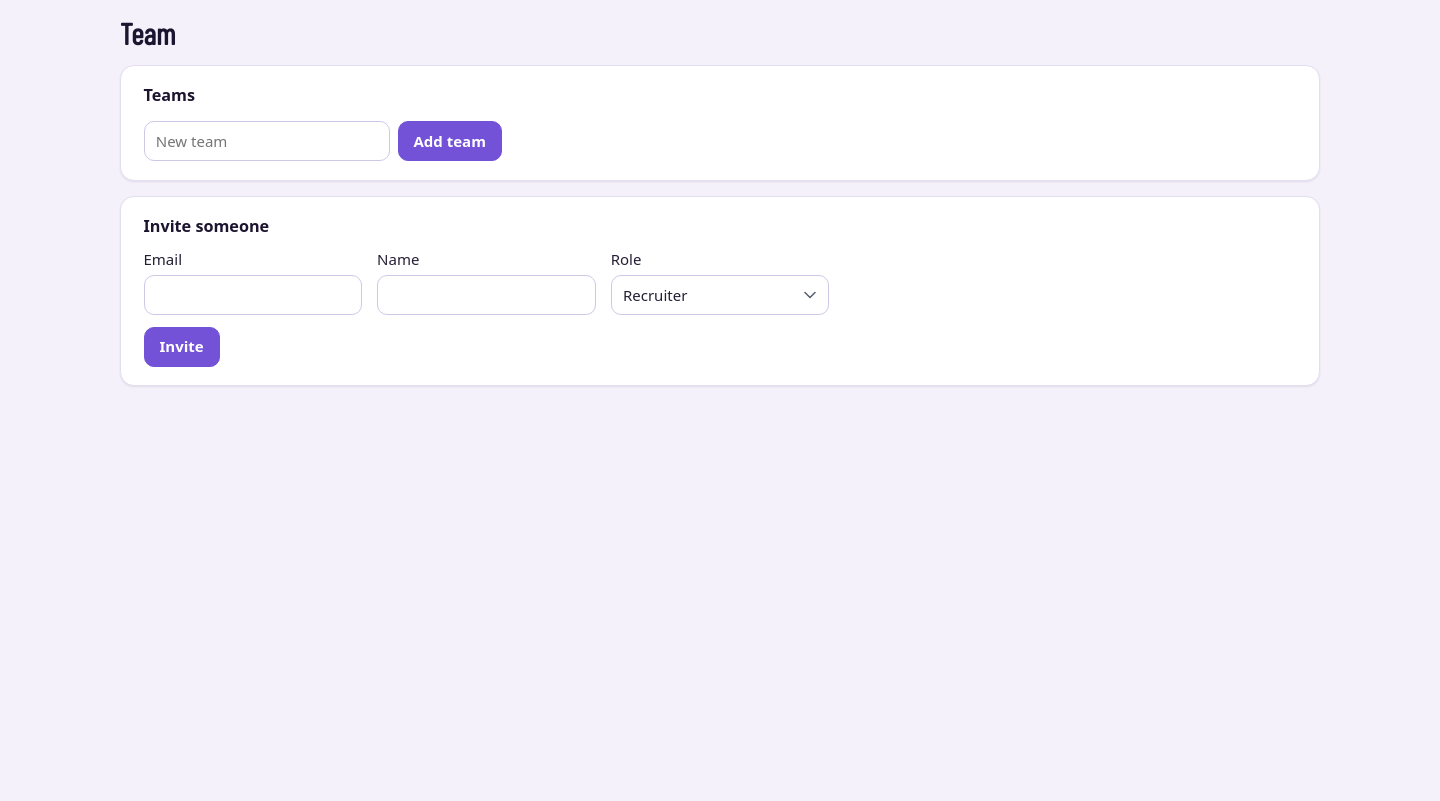
team › says plainly when an invitation could not be emailed, and how to fix it
This screenshot has width=1440, height=801.
In the field labelled "Email": (253, 295) x1=144 y1=275 x2=362 y2=315, type "wei@contoh.my"
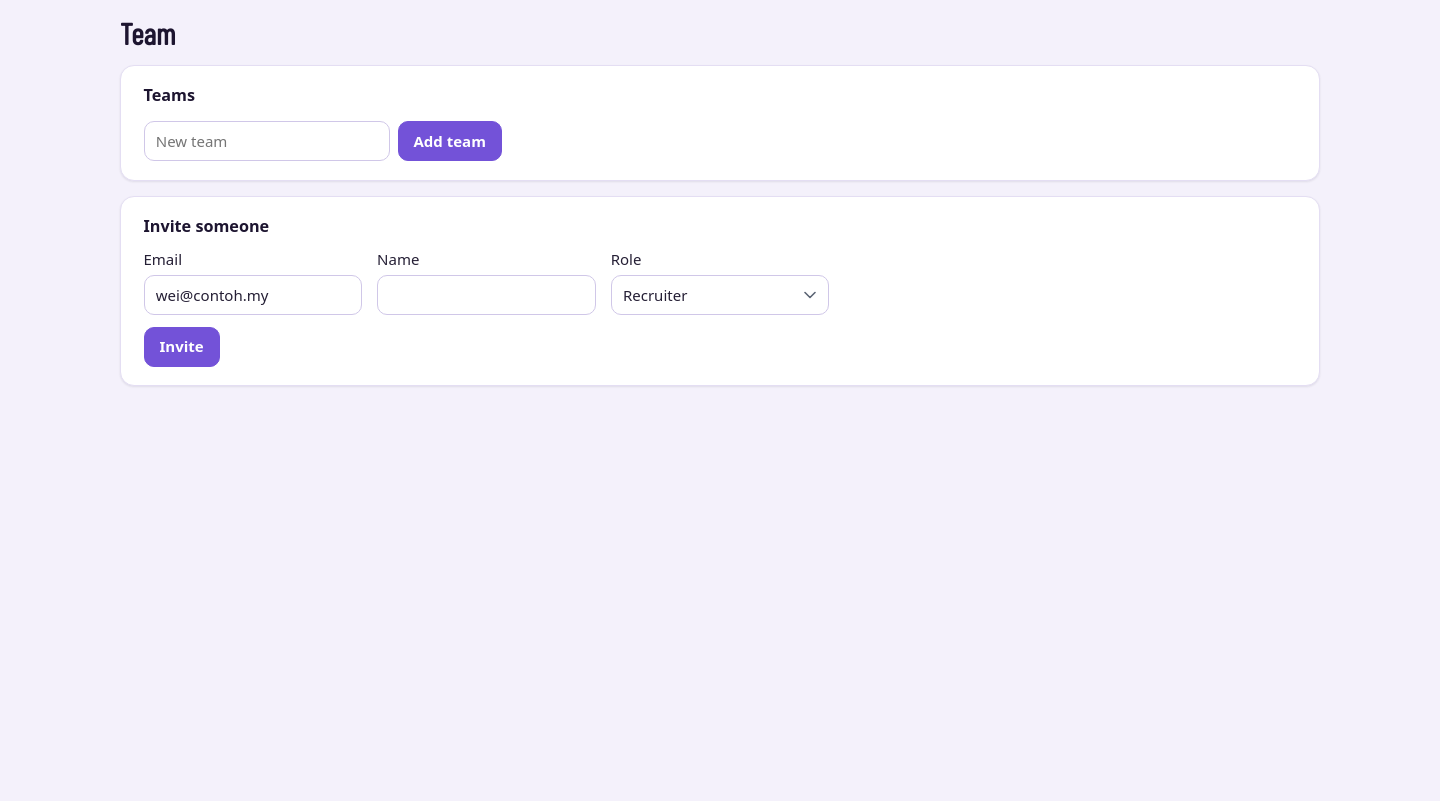
In the field labelled "Name": (486, 295) x1=377 y1=275 x2=596 y2=315, type "Wei"
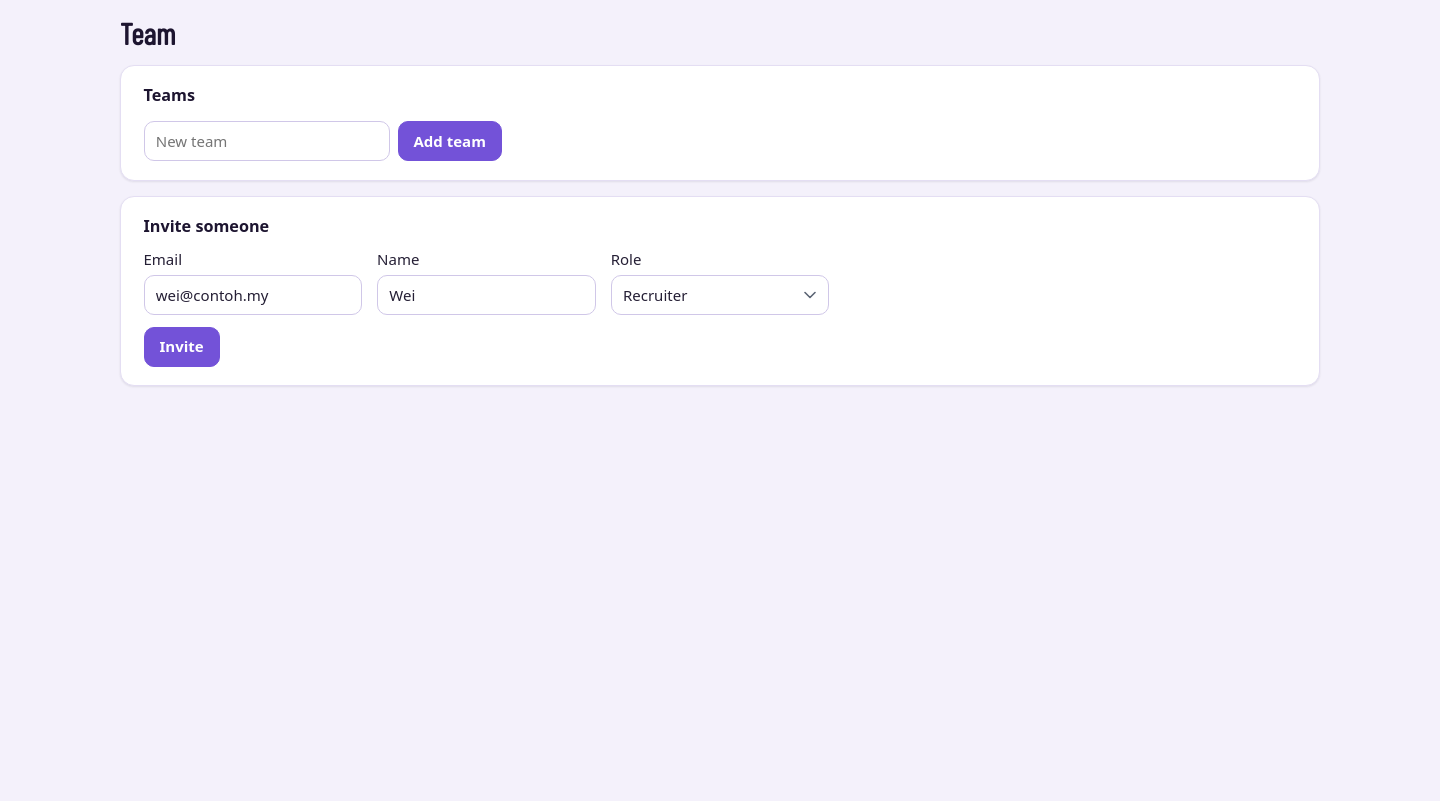
Click the button "Invite": click(182, 347) x1=144 y1=327 x2=220 y2=367
(page scrolled)
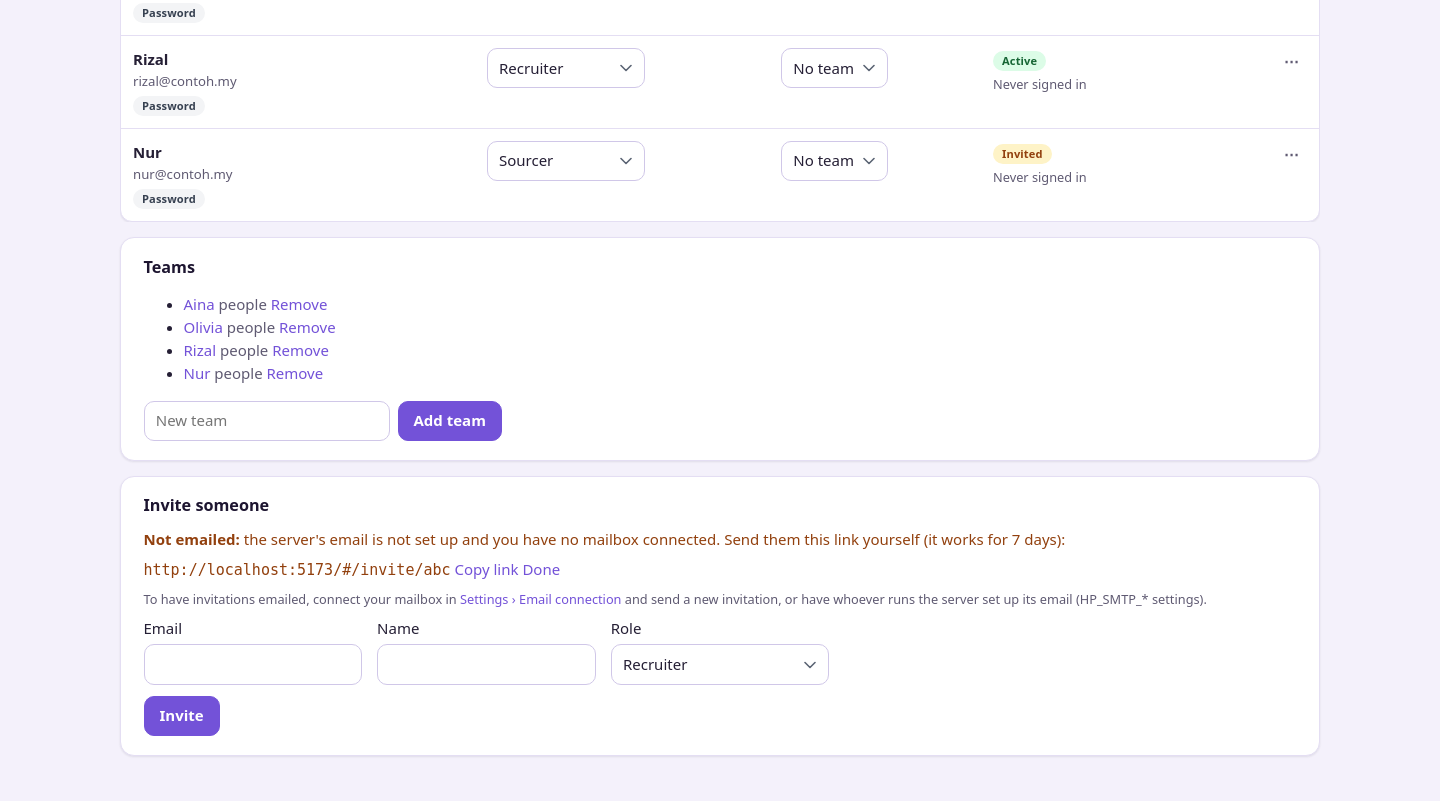
Now the message shows "Not emailed: the server's email is not set up and you have no mailbox connected", box x1=144 y1=528 x2=1296 y2=610
Now the text "http://localhost:5173/#/invite/abc" is shown, box x1=144 y1=561 x2=450 y2=579
